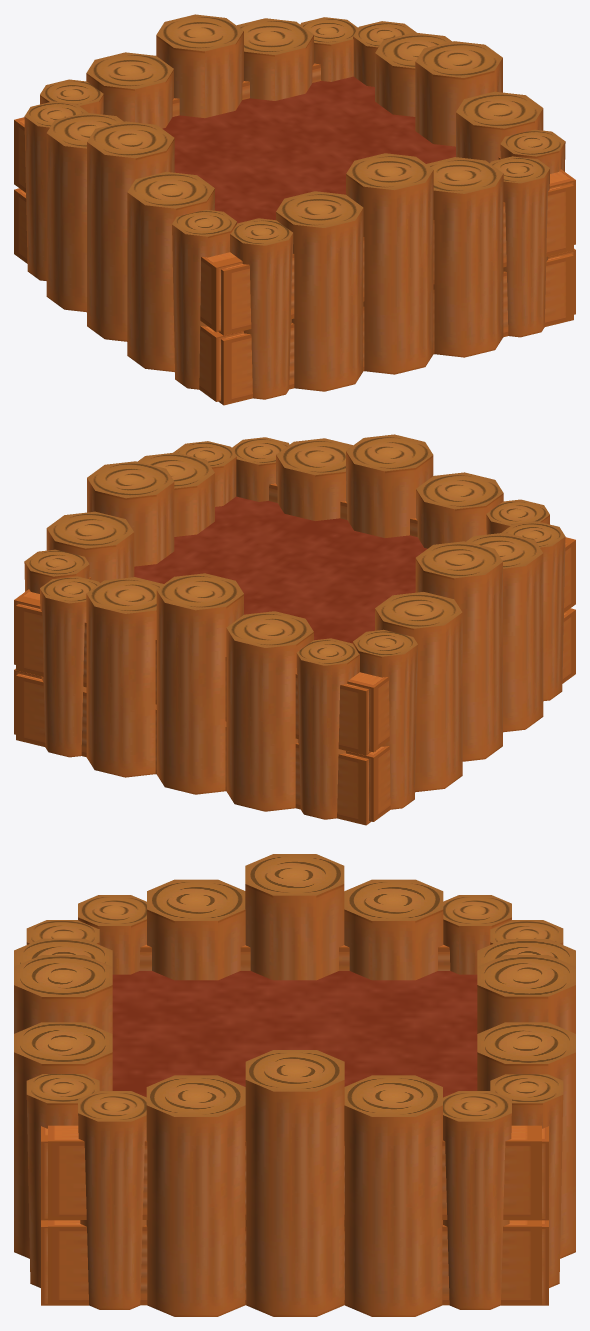
The model's file is GumWoodFlowerBedHand.fbx.
The picture shows the model from 3 angles, top to bottom: view 1: azimuth 30°, elevation 25°; view 2: azimuth 150°, elevation 25°; view 3: azimuth 270°, elevation 25°; orthographic projection. The views are drawn at different scales.
Parts seen in each view (by area): view 1: Up, Right, FencePost, Down, Left; view 2: Down, Right, FencePost, Up, Left; view 3: Left, Right, FencePost, Up, Down.
Boxes of the visible parts, x1,y1,x2,y2 form: Up: [214, 153, 573, 405]; Right: [14, 101, 243, 401]; FencePost: [162, 76, 455, 223]; Down: [40, 14, 357, 128]; Left: [353, 21, 575, 314]; Down: [16, 573, 375, 825]; Right: [346, 521, 575, 821]; FencePost: [134, 496, 427, 643]; Up: [232, 434, 569, 548]; Left: [14, 441, 236, 734]; Left: [48, 1050, 541, 1316]; Right: [78, 854, 511, 980]; FencePost: [112, 971, 477, 1097]; Up: [14, 920, 112, 1305]; Down: [477, 920, 575, 1305].
Bounding box in the file's own units: 0.9096 × 0.4082 × 0.9096.
